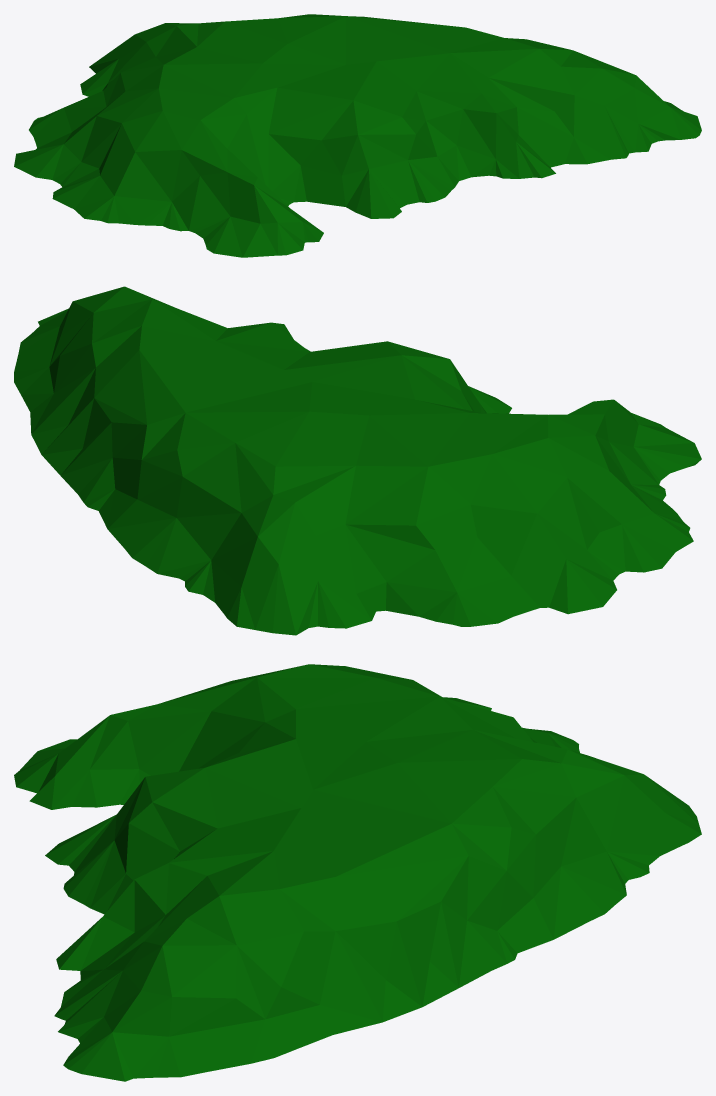
Rendered from Proto_Terrain_Mound_01.fbx.
The picture shows the model from 3 angles, top to bottom: view 1: azimuth 30°, elevation 25°; view 2: azimuth 150°, elevation 25°; view 3: azimuth 270°, elevation 25°; orthographic projection. The views are drawn at different scales.
Visible parts, largest first — view 1: Proto_Terrain_Mound_01; view 2: Proto_Terrain_Mound_01; view 3: Proto_Terrain_Mound_01.
Part boxes in pixels (left/top/right/bottom): Proto_Terrain_Mound_01: left=14, top=14, right=701, bottom=257; Proto_Terrain_Mound_01: left=14, top=286, right=701, bottom=635; Proto_Terrain_Mound_01: left=14, top=664, right=701, bottom=1081.
Size of the model in its own units: 17.4 by 2.25 by 13.09.
